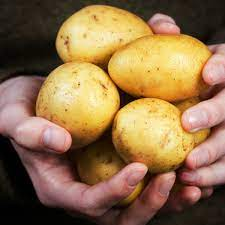potato: (110, 28, 222, 95), (30, 58, 117, 139), (108, 97, 207, 164), (59, 6, 142, 62)
